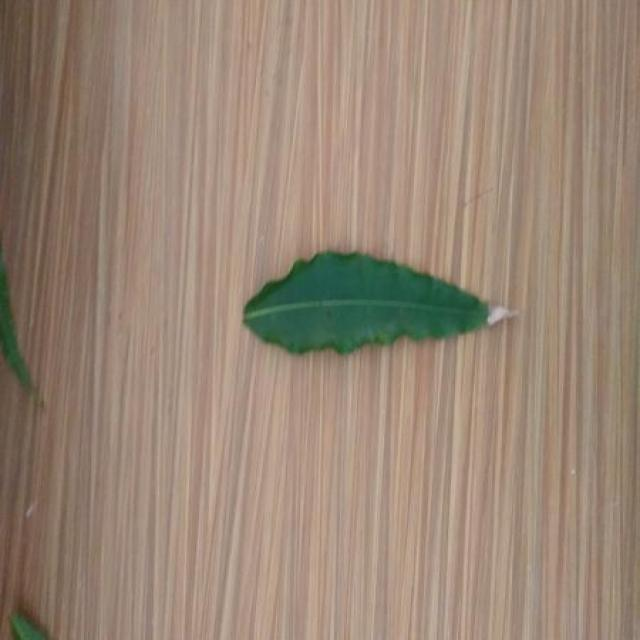ashoka: (243, 252, 517, 353)
defectedashoka: (393, 265, 518, 339)
